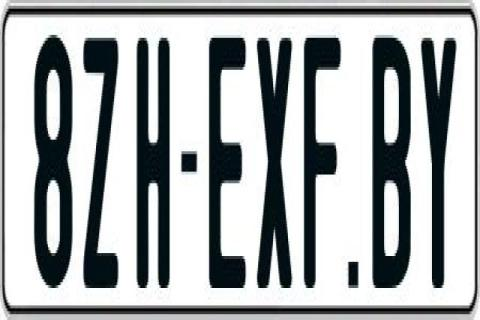0: (30, 35, 74, 303)
B: (369, 35, 411, 291)
E: (209, 32, 250, 294)
F: (303, 32, 346, 291)
H: (134, 32, 166, 296)
X: (258, 32, 299, 282)
Y: (419, 32, 459, 285)
Z: (82, 32, 120, 291)
